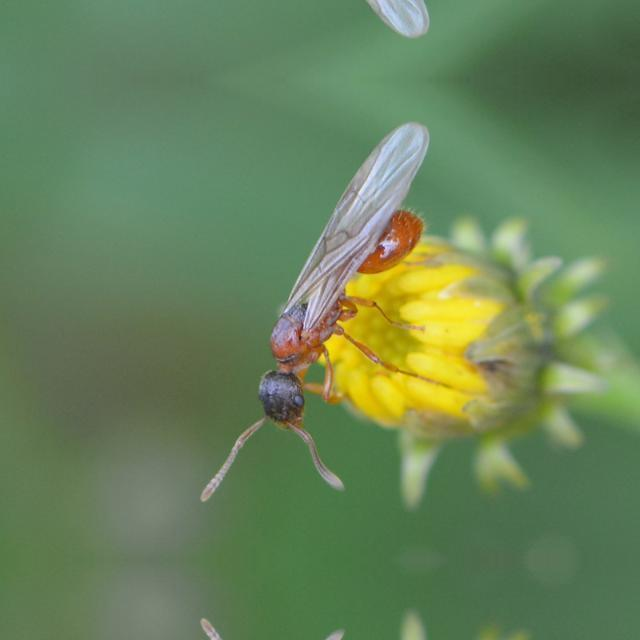Myrmica: (202, 142, 454, 524)
